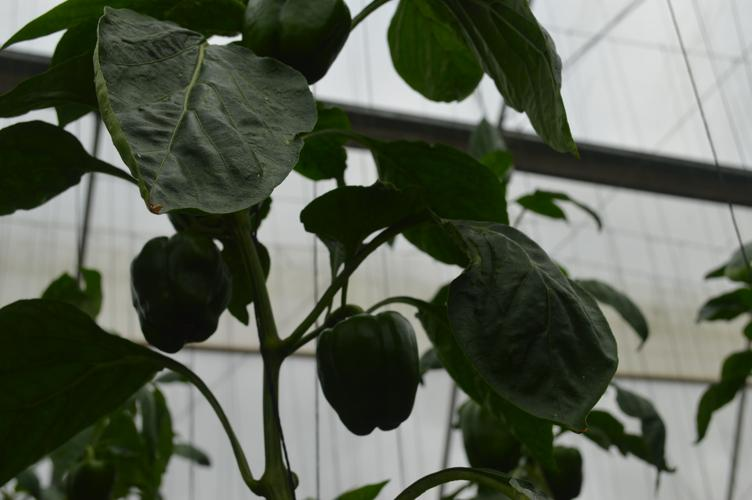BellPepper: (126, 228, 246, 357), (314, 311, 429, 444)
